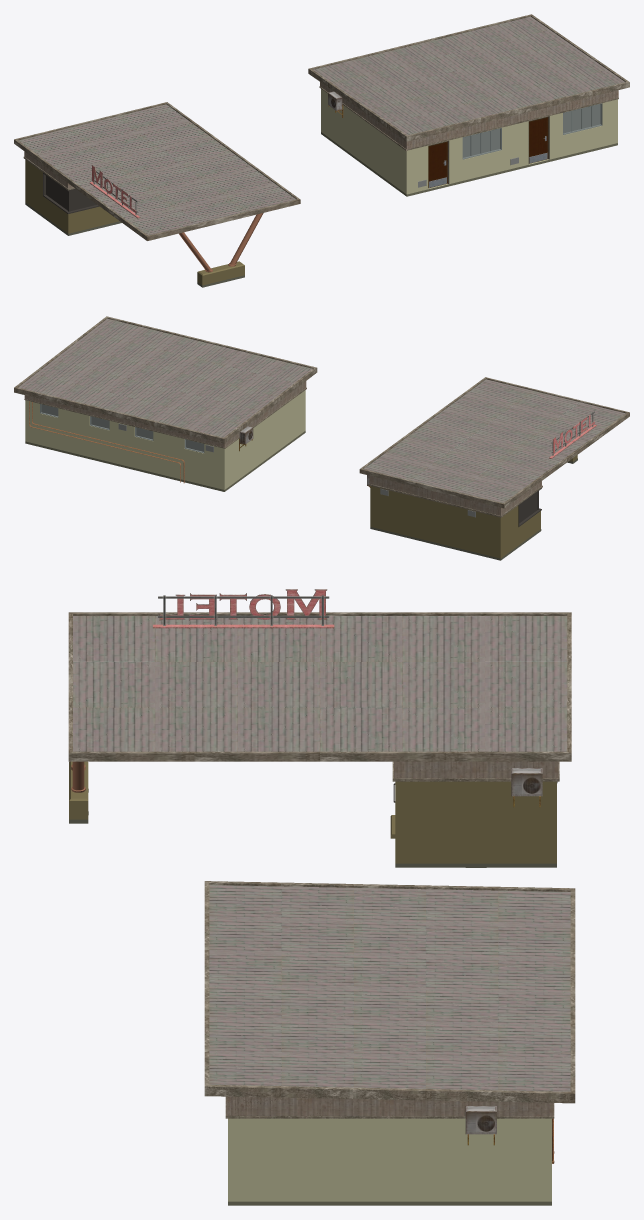
The model's file is modular-motel.lod0.glb.
3 renders of one model, top to bottom at view 1: azimuth 30°, elevation 25°; view 2: azimuth 150°, elevation 25°; view 3: azimuth 270°, elevation 25°, orthographic. The views are drawn at different scales.
Visible parts, largest first — view 1: ReceptionCabinRoof_atlasMaterial01_0, ReceptionCabinWindow_ReceptionCabinWindows_0, simpleWoodenDoor_simpleWoodenDoor_0, motelSign_motelSign_0; view 2: ReceptionCabinRoof_atlasMaterial01_0, ReceptionCabinWindow_ReceptionCabinWindows_0, motelSign_motelSign_0, rustyPipe_rusty.001_0; view 3: ReceptionCabinRoof_atlasMaterial01_0, ReceptionCabinWindow_ReceptionCabinWindows_0, motelSign_motelSign_0, airconditioning.Low.011_air conditioning.004_0.
Boxes of the visible parts, x1=… form: ReceptionCabinRoof_atlasMaterial01_0: x1=14, y1=14, x2=629, y2=240; ReceptionCabinWindow_ReceptionCabinWindows_0: x1=25, y1=89, x2=617, y2=287; simpleWoodenDoor_simpleWoodenDoor_0: x1=428, y1=116, x2=549, y2=188; motelSign_motelSign_0: x1=89, y1=165, x2=140, y2=218; ReceptionCabinRoof_atlasMaterial01_0: x1=14, y1=316, x2=629, y2=517; ReceptionCabinWindow_ReceptionCabinWindows_0: x1=25, y1=390, x2=577, y2=560; motelSign_motelSign_0: x1=549, y1=411, x2=596, y2=458; rustyPipe_rusty.001_0: x1=29, y1=401, x2=184, y2=483; ReceptionCabinRoof_atlasMaterial01_0: x1=68, y1=612, x2=575, y2=1118; ReceptionCabinWindow_ReceptionCabinWindows_0: x1=69, y1=761, x2=557, y2=1205; motelSign_motelSign_0: x1=152, y1=589, x2=334, y2=628; airconditioning.Low.011_air conditioning.004_0: x1=465, y1=768, x2=542, y2=1145.
Size of the model in its own units: 24.49 by 3.77 by 10.94.
6 materials, 5 textured.
